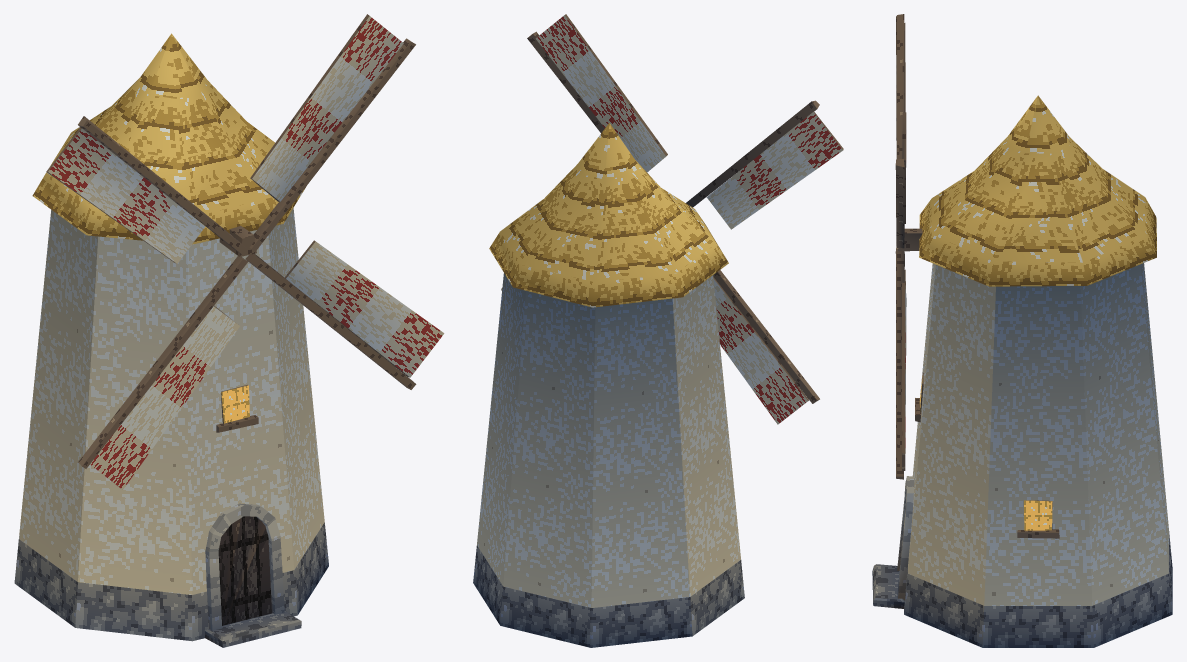
The model's file is vlg.mill__turned.glb.
The picture shows the model from 3 angles, left to right: view 1: azimuth 30°, elevation 25°; view 2: azimuth 150°, elevation 25°; view 3: azimuth 270°, elevation 25°; orthographic projection. The views are drawn at different scales.
Visible parts, largest first — view 1: kit_walls, kit_fittings, kit_roof, kit_frame; view 2: kit_walls, kit_roof, kit_fittings, kit_frame; view 3: kit_walls, kit_roof, kit_fittings, kit_frame.
Part boxes in pixels (x1=…): kit_walls: x1=14, y1=208, x2=328, y2=641; kit_fittings: x1=46, y1=14, x2=444, y2=647; kit_roof: x1=32, y1=33, x2=305, y2=244; kit_frame: x1=78, y1=38, x2=416, y2=468; kit_walls: x1=473, y1=273, x2=744, y2=647; kit_roof: x1=489, y1=123, x2=728, y2=307; kit_fittings: x1=501, y1=14, x2=843, y2=424; kit_frame: x1=527, y1=31, x2=819, y2=403; kit_walls: x1=904, y1=263, x2=1172, y2=647; kit_roof: x1=919, y1=95, x2=1156, y2=286; kit_fittings: x1=872, y1=23, x2=1059, y2=608; kit_frame: x1=895, y1=14, x2=922, y2=479.
Size of the model in its own units: 7.5 by 10.56 by 5.37.
9 materials, 9 textured.
